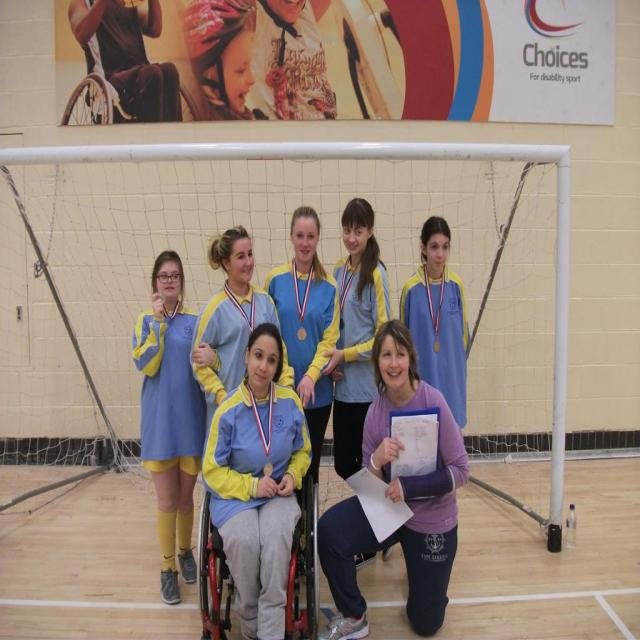Face: (336, 192, 376, 264), (372, 335, 420, 393), (222, 224, 259, 295), (285, 210, 321, 276), (249, 329, 283, 398), (157, 246, 189, 312), (424, 221, 458, 282)
